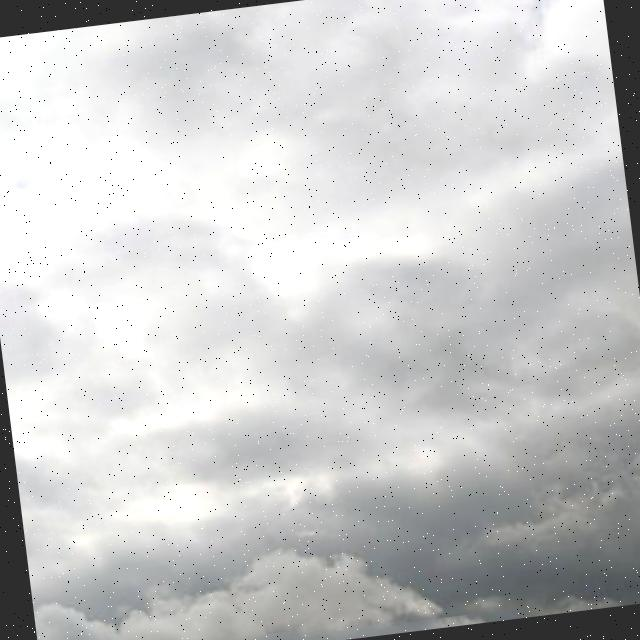Ns: (1, 42, 640, 640)
